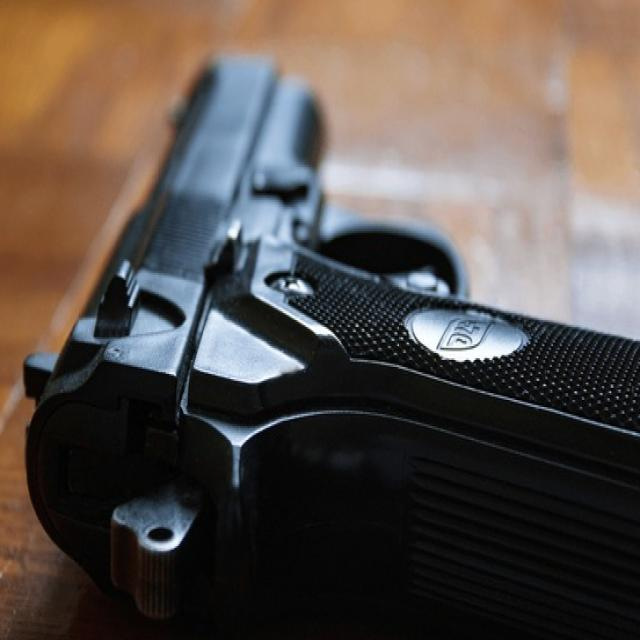Gun: (8, 38, 640, 640)
